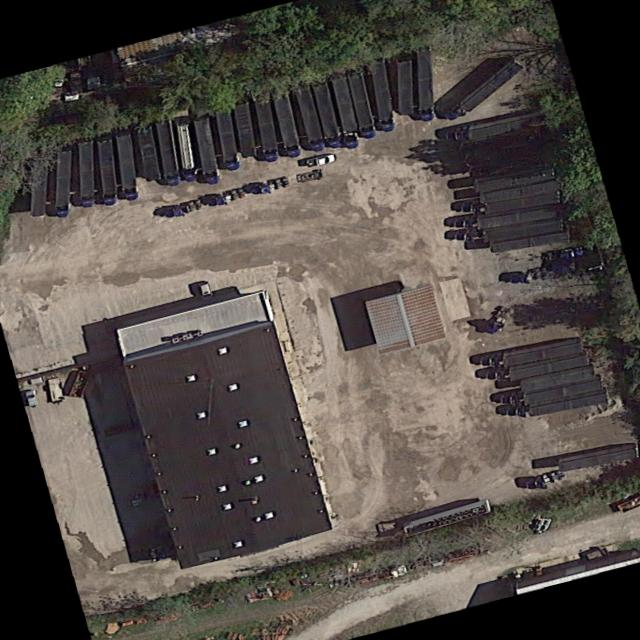large-vehicle: (442, 58, 523, 120), (485, 351, 586, 384), (445, 110, 544, 142), (480, 337, 582, 368), (499, 377, 601, 405), (505, 391, 608, 418), (454, 219, 561, 242), (455, 206, 557, 229), (461, 191, 558, 214), (463, 166, 552, 191), (330, 77, 359, 149), (347, 72, 375, 139), (475, 181, 558, 203), (311, 83, 339, 148), (253, 93, 279, 162), (296, 87, 324, 151), (370, 58, 394, 132), (488, 231, 568, 253), (273, 93, 300, 157), (154, 121, 179, 185), (195, 119, 218, 185), (214, 109, 237, 171), (116, 134, 137, 200), (234, 94, 255, 158), (28, 151, 48, 216), (136, 125, 159, 181), (96, 139, 116, 203), (54, 151, 72, 217), (175, 122, 194, 181), (417, 48, 432, 122), (397, 47, 411, 115), (79, 142, 91, 206)
small-vehicle: (304, 153, 335, 168), (196, 281, 214, 302), (24, 375, 46, 386), (24, 389, 37, 407), (53, 70, 67, 86)
